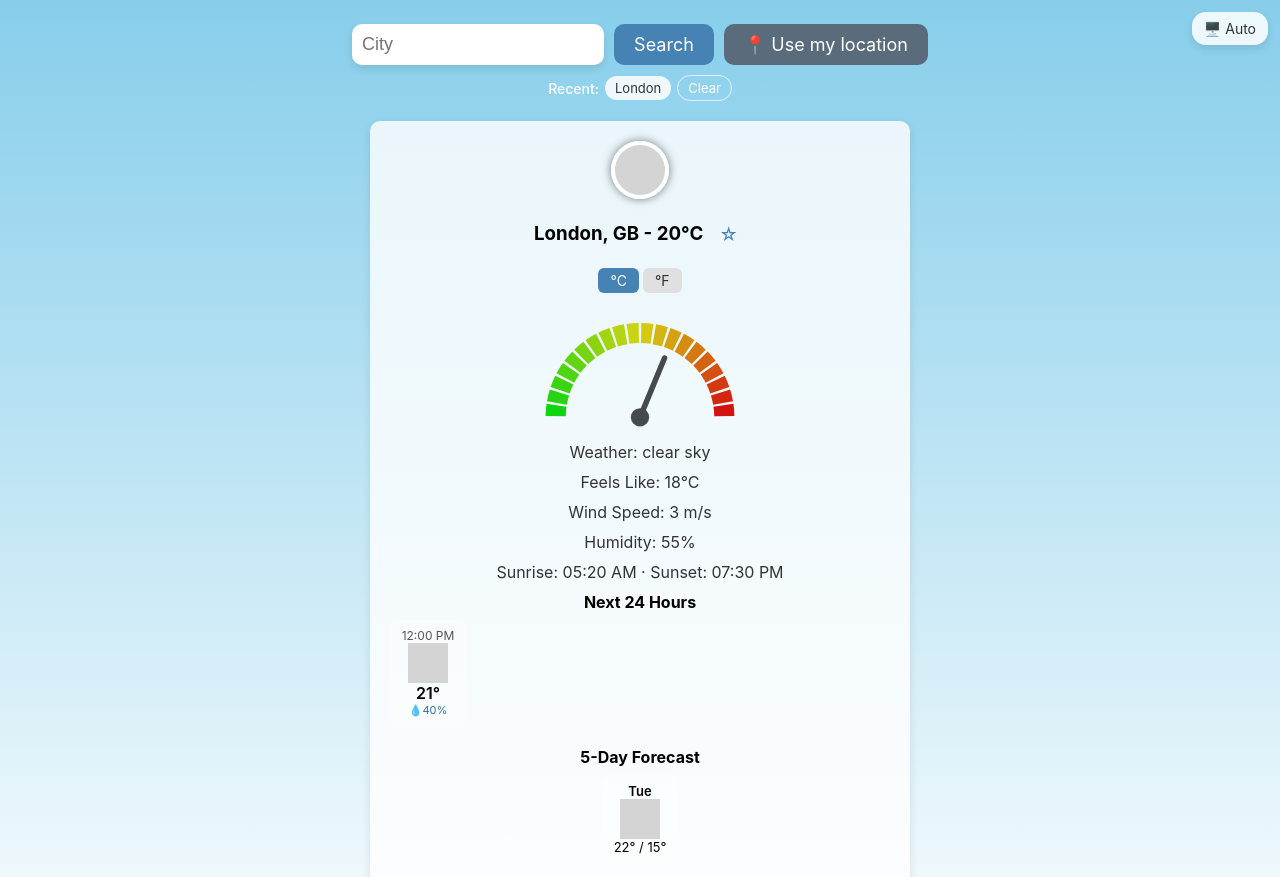
Test: searches for a typed city and shows its weather
The width and height of the screenshot is (1280, 877).
Expected: the heading "London, GB - 20°C ☆" is shown, [534,222,746,245]
Type "Paris" into the dropdown.
click(478, 44); type("Paris")  # box [352,24,604,65]
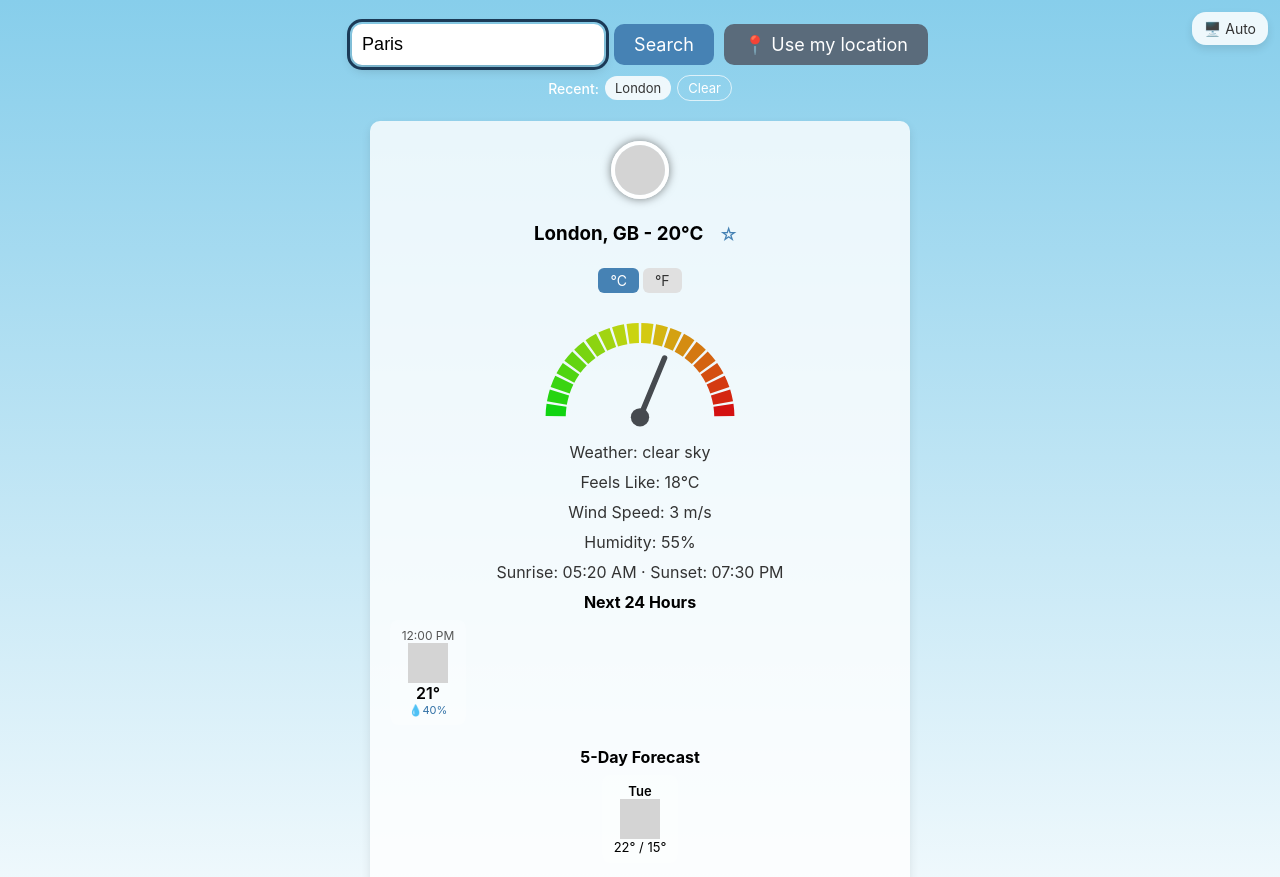
Click the button "Search".
click(664, 44)  # box [614,24,714,65]
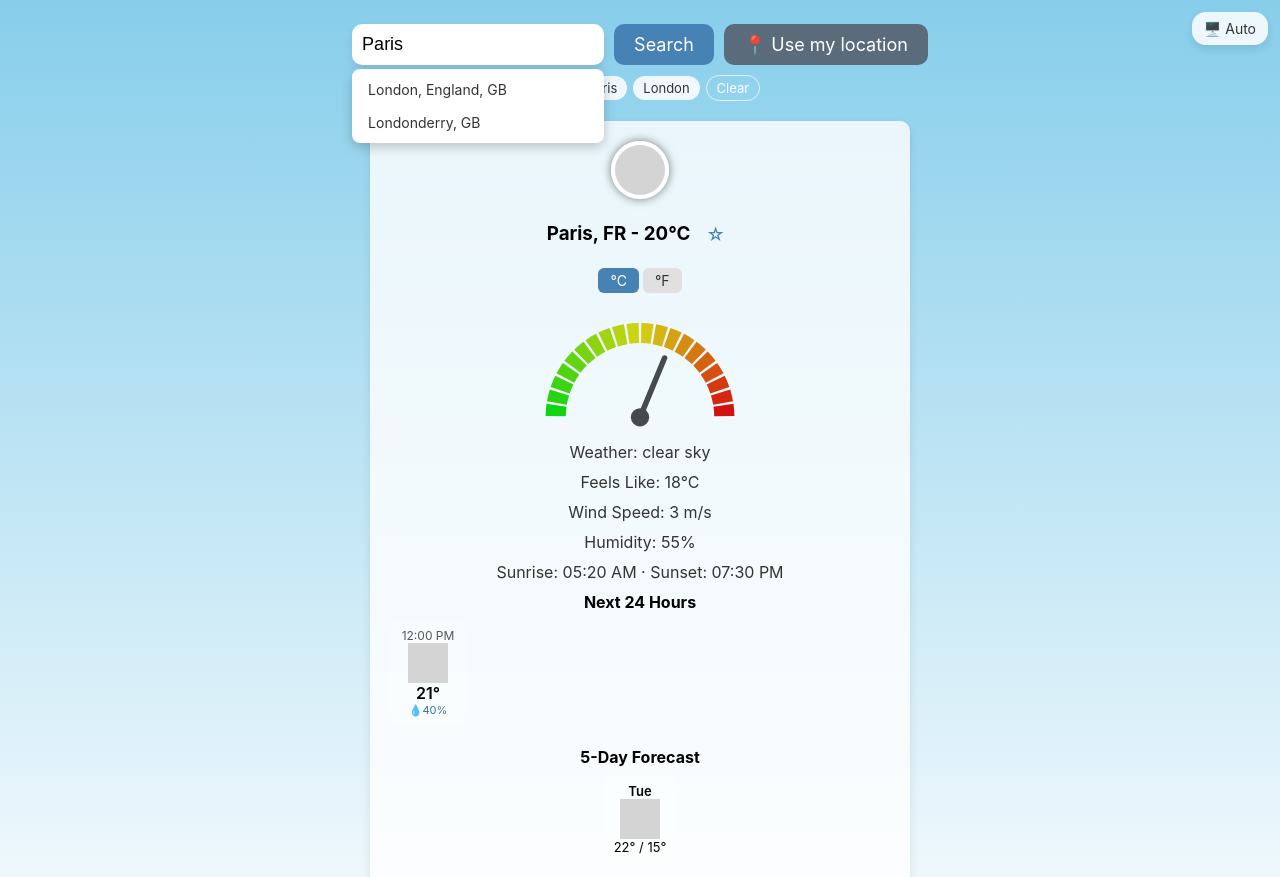
Now the heading "Paris, FR - 20°C ☆" is shown, box [547,222,733,245]
